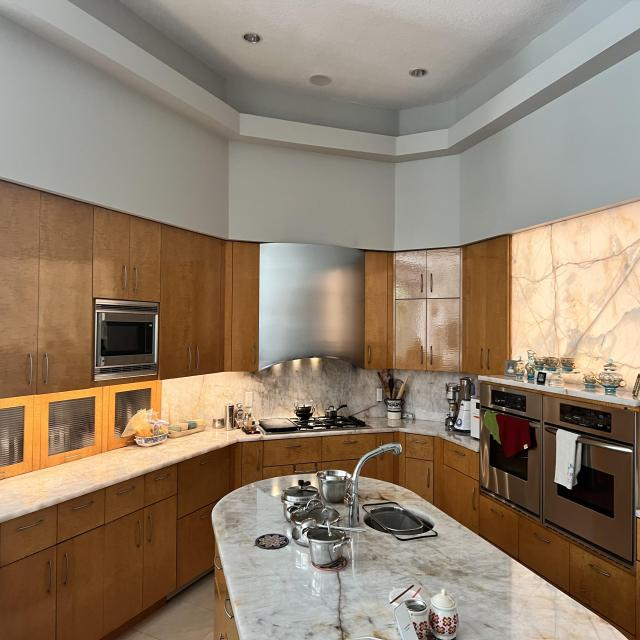Appliance_Microwave: (92, 299, 160, 385)
Appliance_Oven: (544, 397, 636, 563), (479, 382, 542, 518)
Appliance_Sink: (346, 444, 402, 528), (362, 502, 436, 541)
Appliance_Stove: (258, 417, 365, 432)
Cabinet_Glass: (0, 381, 162, 482)
Cabinet_Inset: (0, 433, 640, 640), (0, 180, 233, 399), (364, 236, 513, 376)
Countertop_Marble: (214, 470, 632, 640), (0, 422, 480, 524)
